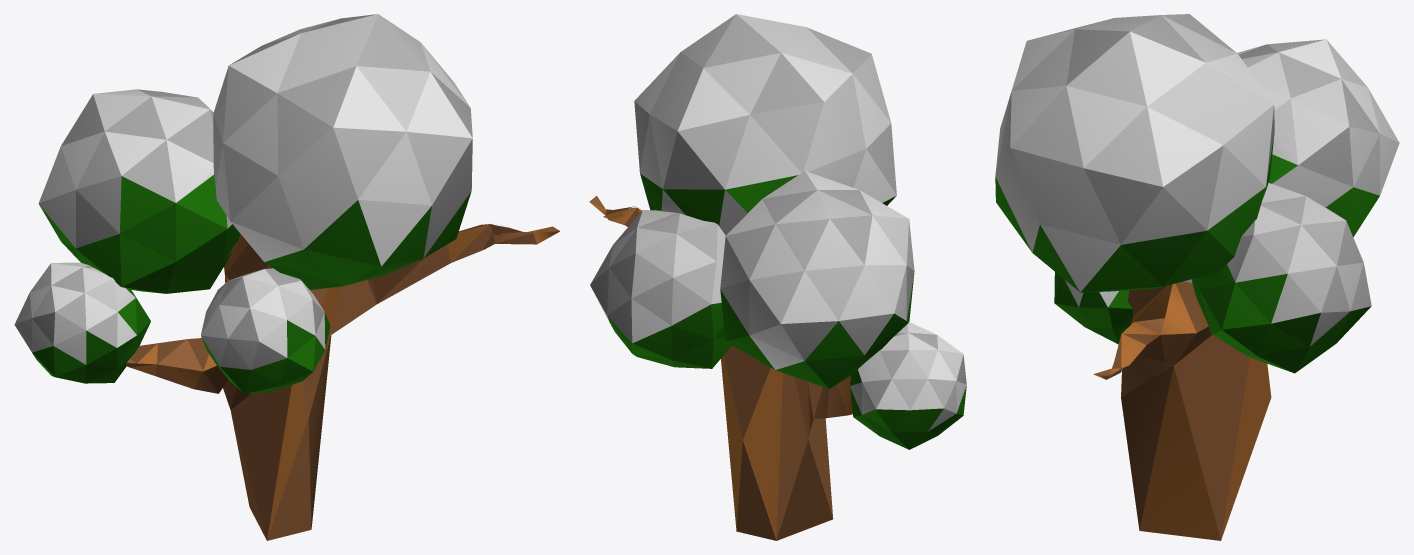
File: non_broken_tree.fbx
3 renders of one model, left to right at view 1: azimuth 30°, elevation 25°; view 2: azimuth 150°, elevation 25°; view 3: azimuth 270°, elevation 25°, orthographic. The views are drawn at different scales.
Visible parts, largest first — view 1: tree; view 2: tree; view 3: tree.
Boxes of the visible parts, x1=… form: tree: x1=14, y1=14, x2=559, y2=540; tree: x1=589, y1=14, x2=966, y2=540; tree: x1=995, y1=14, x2=1399, y2=540.
Size of the model in its own units: 65.64 by 69.26 by 47.72.
